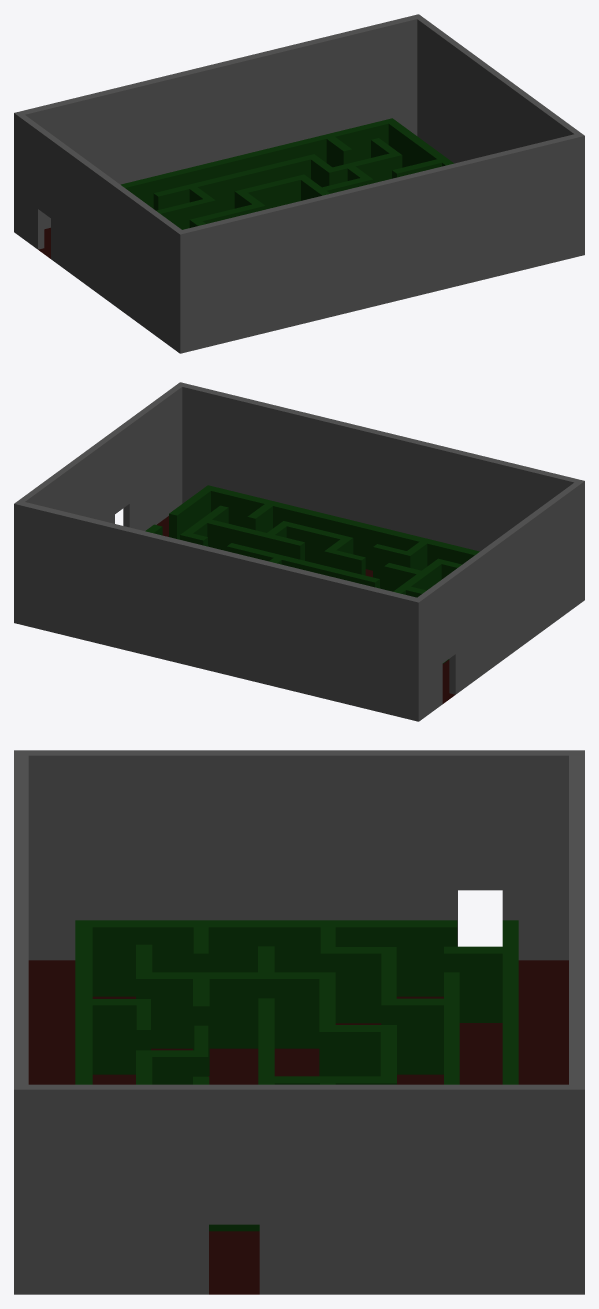
File: ikincilabirent.fbx
The picture shows the model from 3 angles, top to bottom: view 1: azimuth 30°, elevation 25°; view 2: azimuth 150°, elevation 25°; view 3: azimuth 270°, elevation 25°; orthographic projection. The views are drawn at different scales.
Parts seen in each view (by area): view 1: Cube.003, Cube; view 2: Cube.003, Cube, Plane; view 3: Cube.003, Cube, Plane.
Boxes of the visible parts, box(x1,y1,x2,y2) form: Cube.003: box(14, 14, 584, 353); Cube: box(121, 118, 453, 229); Cube.003: box(14, 382, 584, 721); Cube: box(145, 485, 479, 663); Plane: box(157, 516, 455, 703); Cube.003: box(14, 750, 584, 1294); Cube: box(75, 920, 518, 1231); Plane: box(28, 960, 568, 1294).
Bounding box in the file's own units: 3732 × 1050 × 2653.
